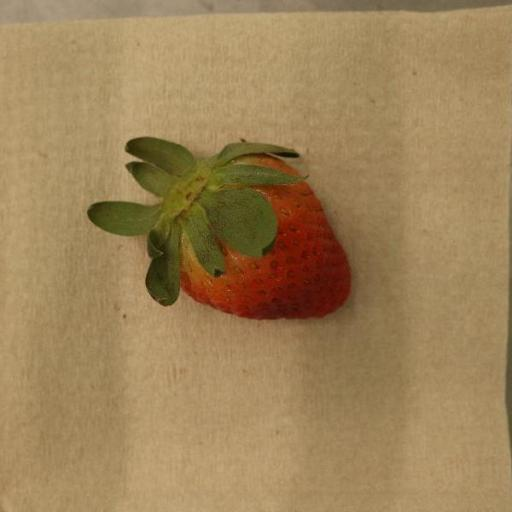Strawberry: (86, 137, 351, 321)
